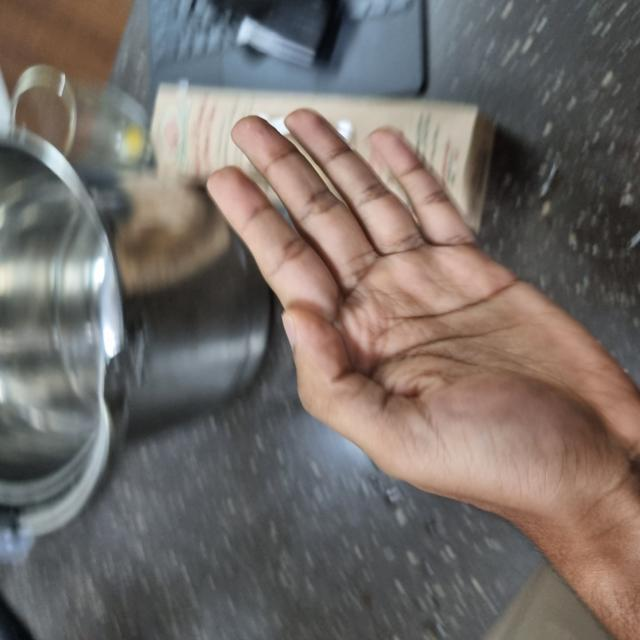Paper: (120, 204, 532, 637)
